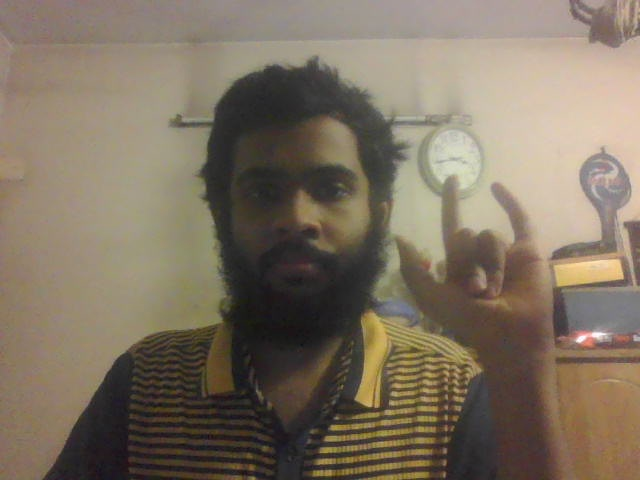I Love You: (384, 175, 578, 338)
